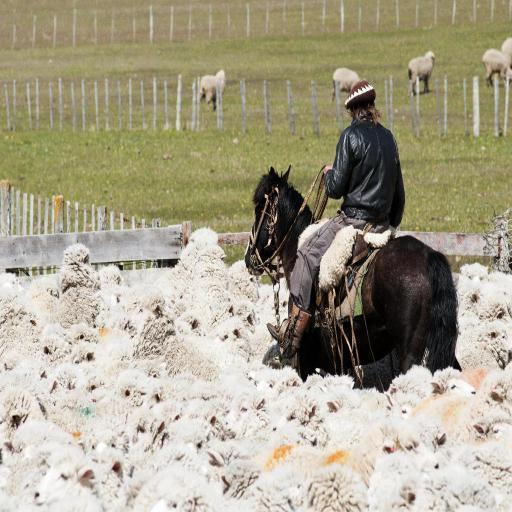horse: (244, 162, 460, 394)
